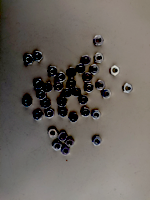nut: (23, 55, 34, 65), (33, 51, 43, 62), (34, 79, 44, 90), (48, 66, 58, 77), (110, 65, 120, 76), (123, 83, 133, 94), (102, 89, 112, 100), (96, 80, 106, 91), (84, 83, 94, 94), (67, 67, 77, 78), (56, 72, 67, 82), (54, 81, 64, 92), (37, 90, 47, 101), (33, 111, 44, 121), (48, 128, 58, 139), (94, 36, 104, 46), (22, 97, 32, 107), (94, 53, 104, 63), (82, 55, 92, 65), (83, 73, 93, 83), (90, 65, 100, 75), (43, 83, 53, 93), (65, 138, 75, 148), (61, 147, 71, 157), (52, 142, 62, 152), (58, 133, 68, 143), (91, 110, 101, 120), (69, 113, 79, 123), (81, 108, 91, 118), (79, 95, 89, 105), (58, 108, 68, 118), (42, 99, 52, 109), (57, 98, 67, 108), (63, 89, 73, 99), (67, 78, 77, 88), (71, 87, 81, 97), (93, 137, 102, 147), (45, 109, 54, 119), (78, 65, 85, 74)
